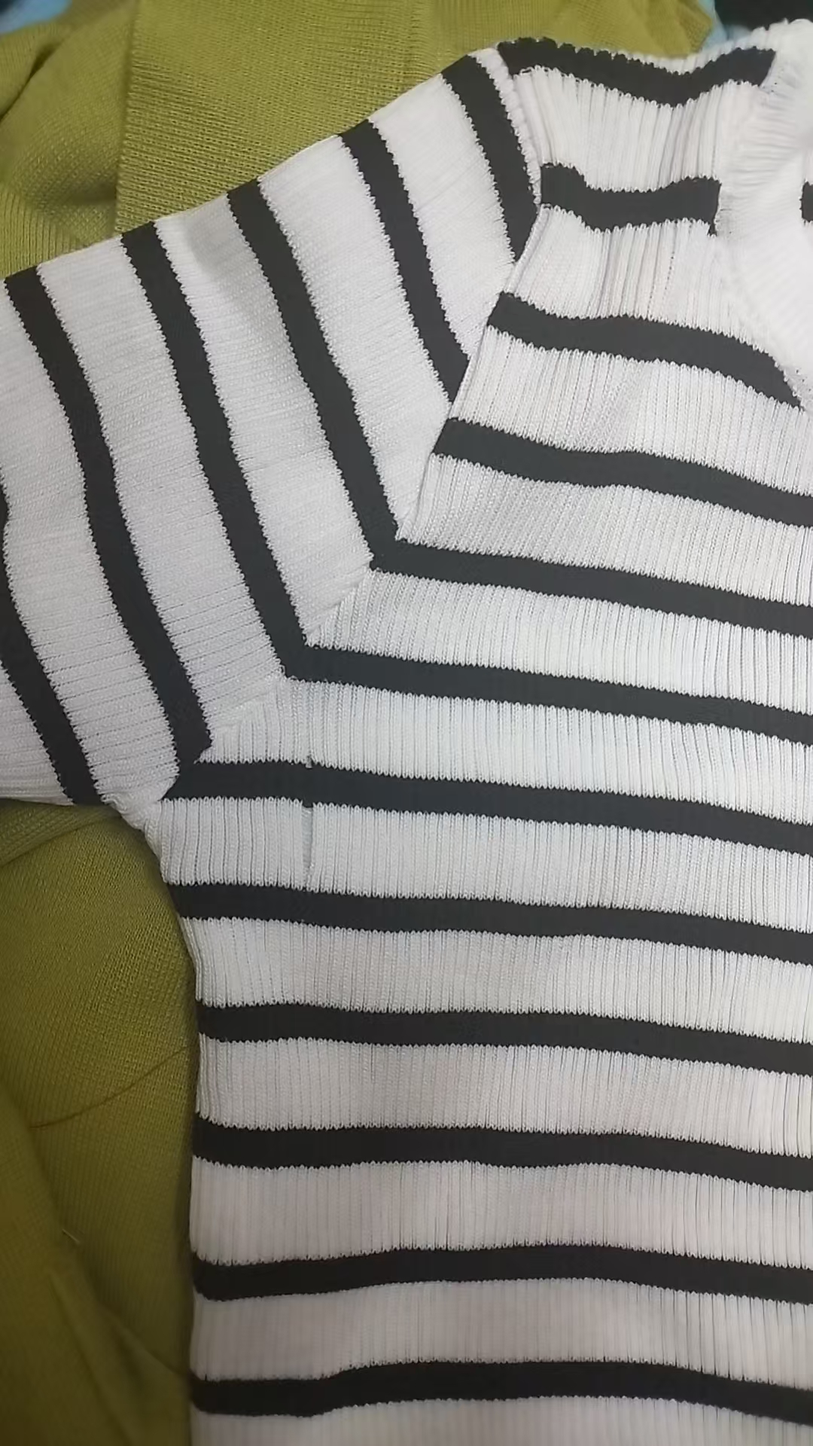missing_stitch_1: (298, 753, 320, 880)
